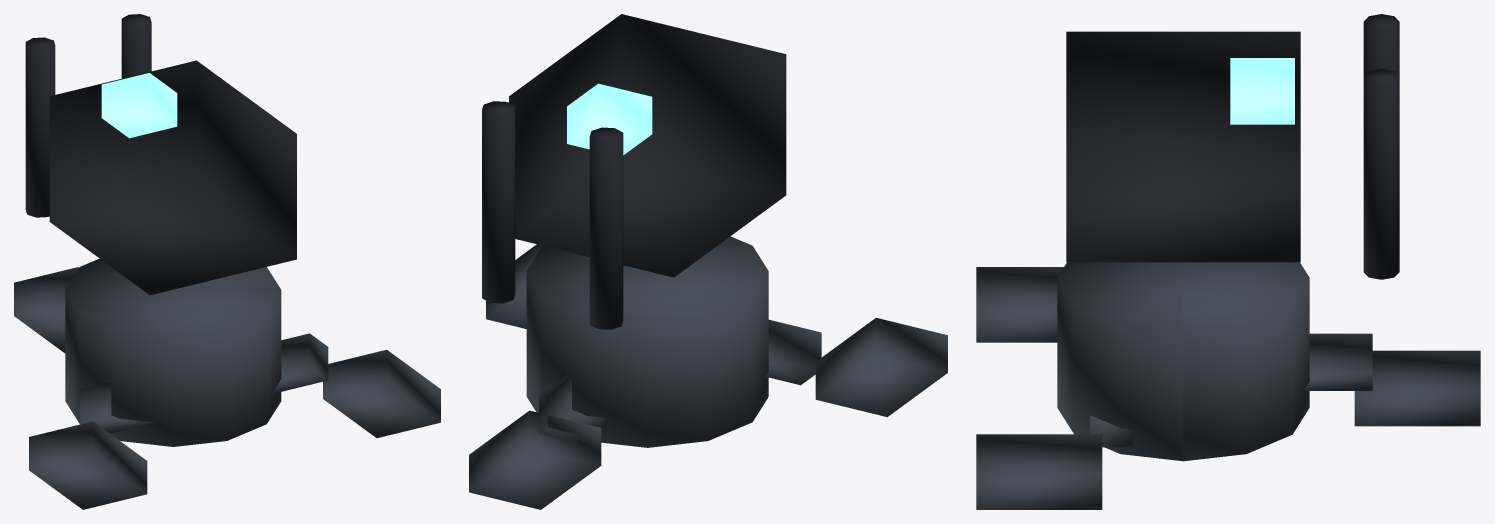
The model's file is auto_turret.glb.
3 views of the same model, side by side, from view 1: azimuth 30°, elevation 25°; view 2: azimuth 150°, elevation 25°; view 3: azimuth 270°, elevation 25° (orthographic). The views are drawn at different scales.
Visible parts, largest first — view 1: Base, HeadMesh; view 2: HeadMesh, Base; view 3: Base, HeadMesh.
Boxes of the visible parts, <box> form: Base: <box>14,258,440,509</box>; HeadMesh: <box>25,14,296,295</box>; HeadMesh: <box>482,14,786,329</box>; Base: <box>469,236,947,509</box>; Base: <box>976,262,1480,509</box>; HeadMesh: <box>1066,14,1399,279</box>.
Size of the model in its own units: 1.34 by 1.1 by 1.4.
